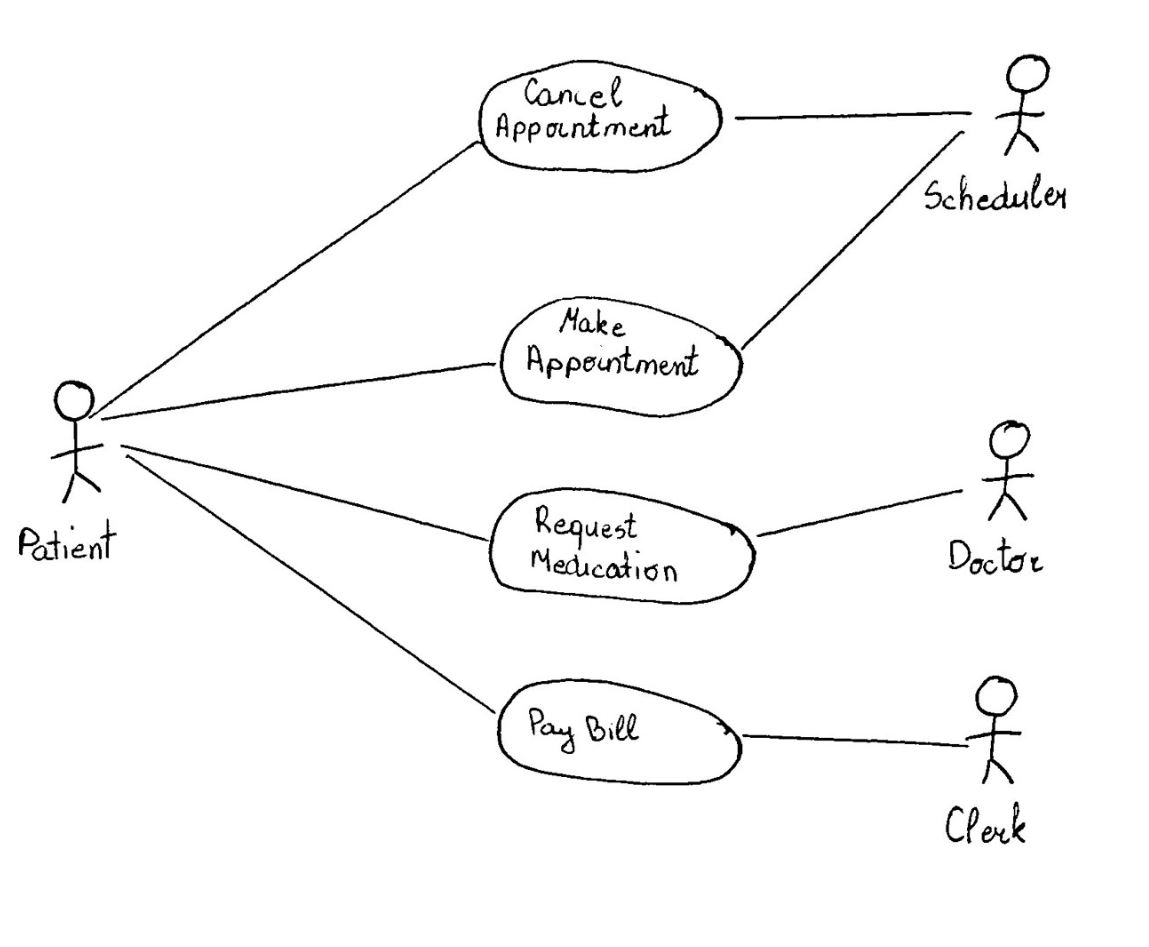actor: (38, 373, 112, 503), (978, 421, 1038, 529), (993, 53, 1048, 168), (970, 670, 1021, 789)
association: (99, 134, 480, 411), (128, 453, 496, 716), (743, 125, 963, 353), (121, 441, 490, 543), (102, 357, 494, 423), (758, 486, 965, 537), (735, 91, 969, 131), (742, 725, 967, 762)
text: (524, 498, 690, 588), (516, 305, 704, 383), (489, 79, 677, 144), (924, 171, 1076, 223), (518, 700, 666, 753), (944, 789, 1057, 856), (8, 514, 132, 567), (930, 534, 1047, 580)
use_case: (486, 485, 759, 606), (499, 296, 743, 418), (477, 60, 725, 177), (494, 676, 744, 789)
